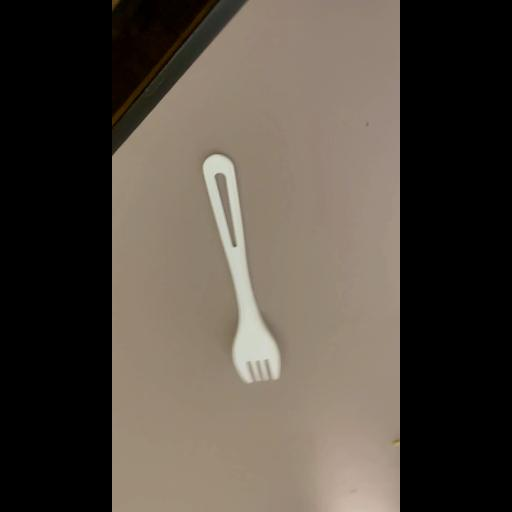utensil: (202, 150, 286, 386)
